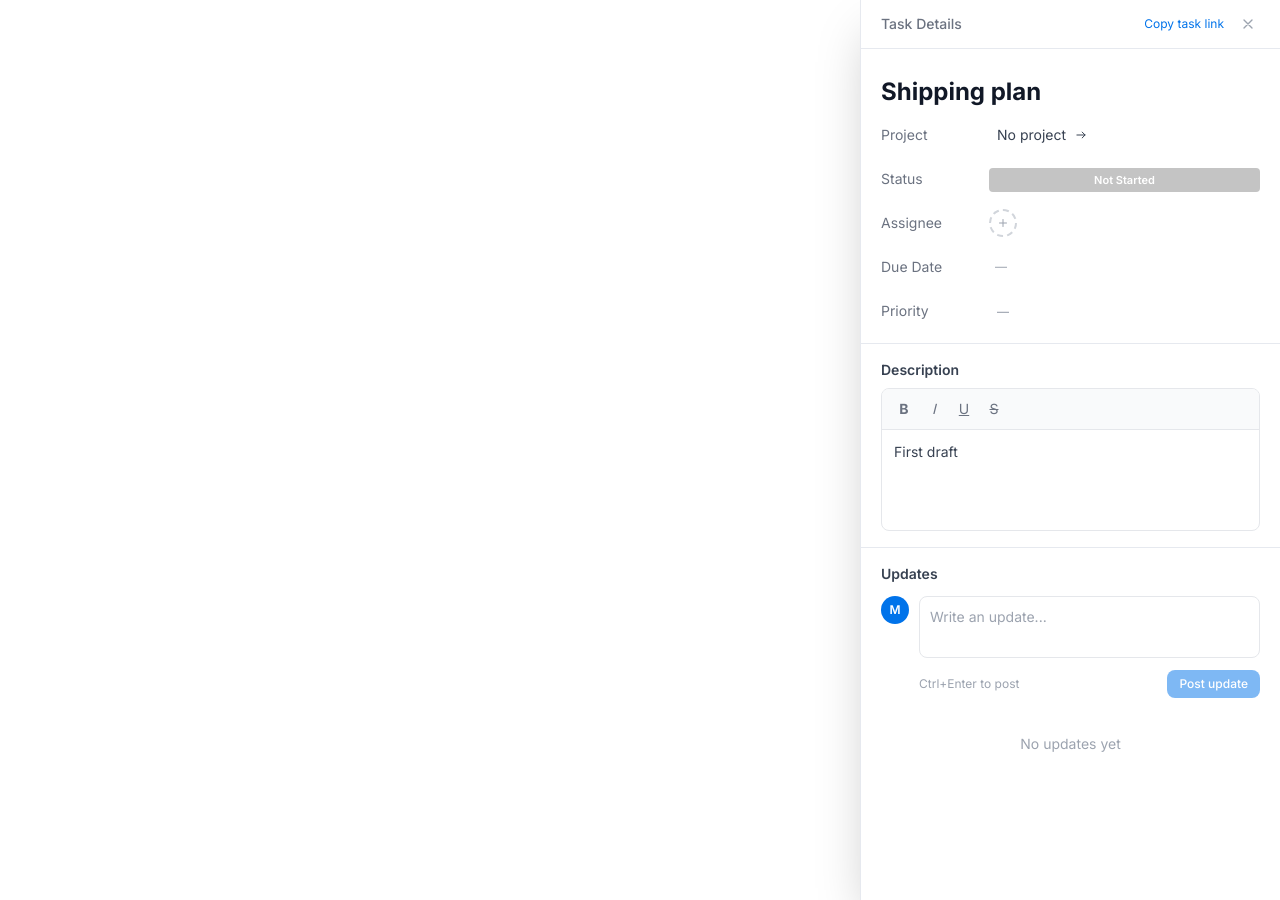
task editor accessibility and confirmed save feedback › serializes description requests so a slow earlier save cannot overwrite a later one
Clear the field named "Description for \"Shipping plan\"" at point(926, 452), box [894, 443, 958, 460]
Wait 800 ms
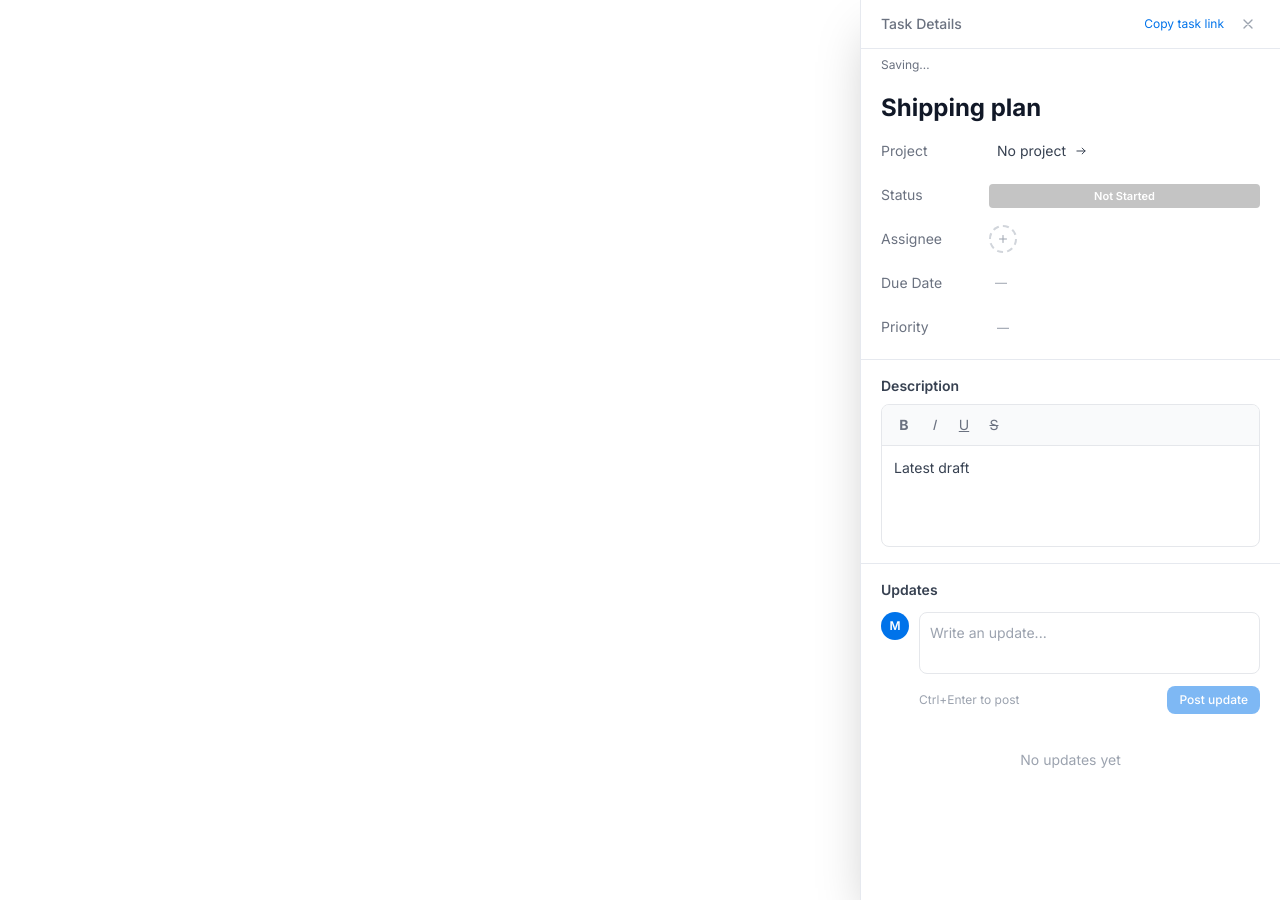
Clear the field named "Description for \"Shipping plan\"" at point(932, 468), box [894, 459, 969, 476]
Wait 800 ms
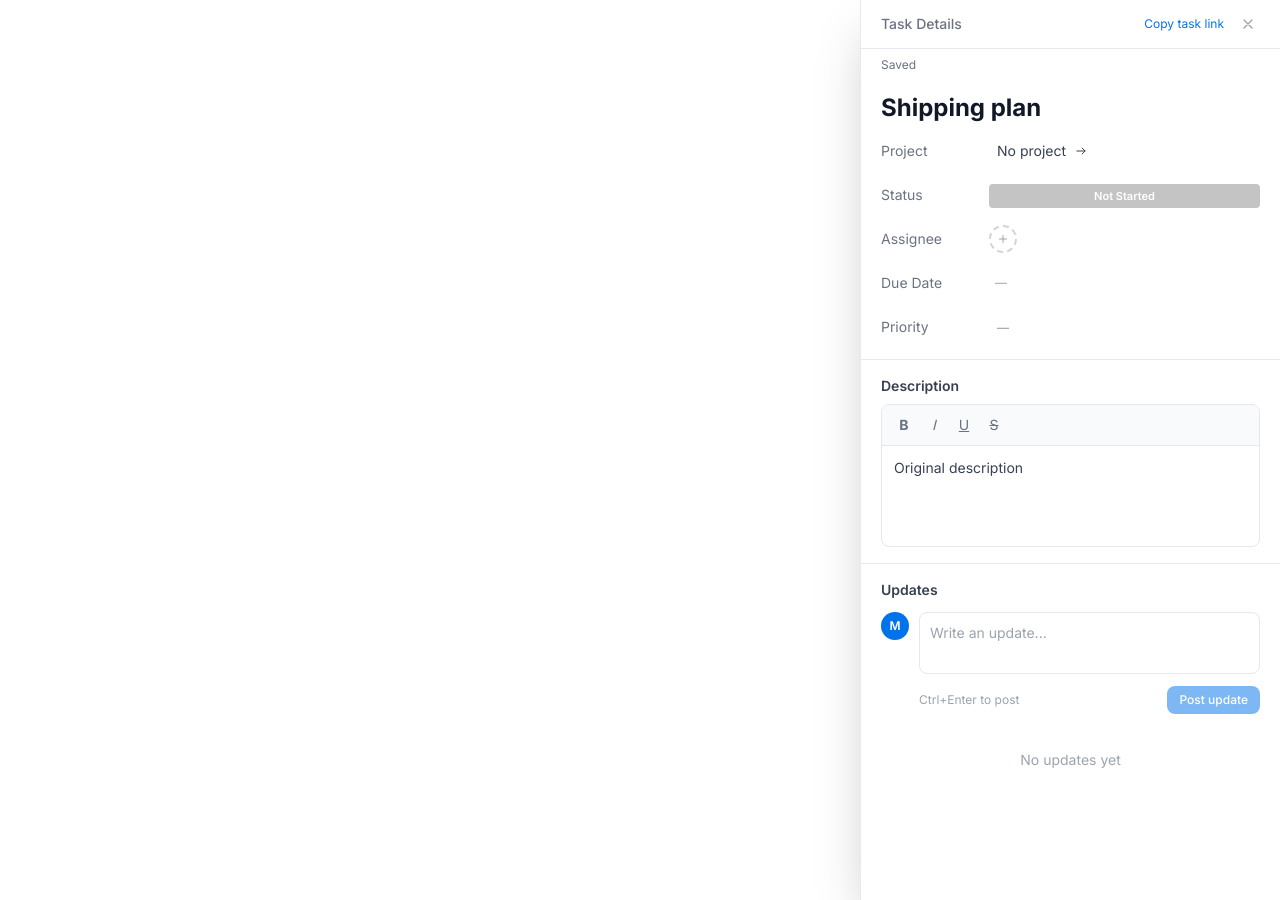
expect the text "Saved" is shown: met, box [881, 57, 916, 72]
